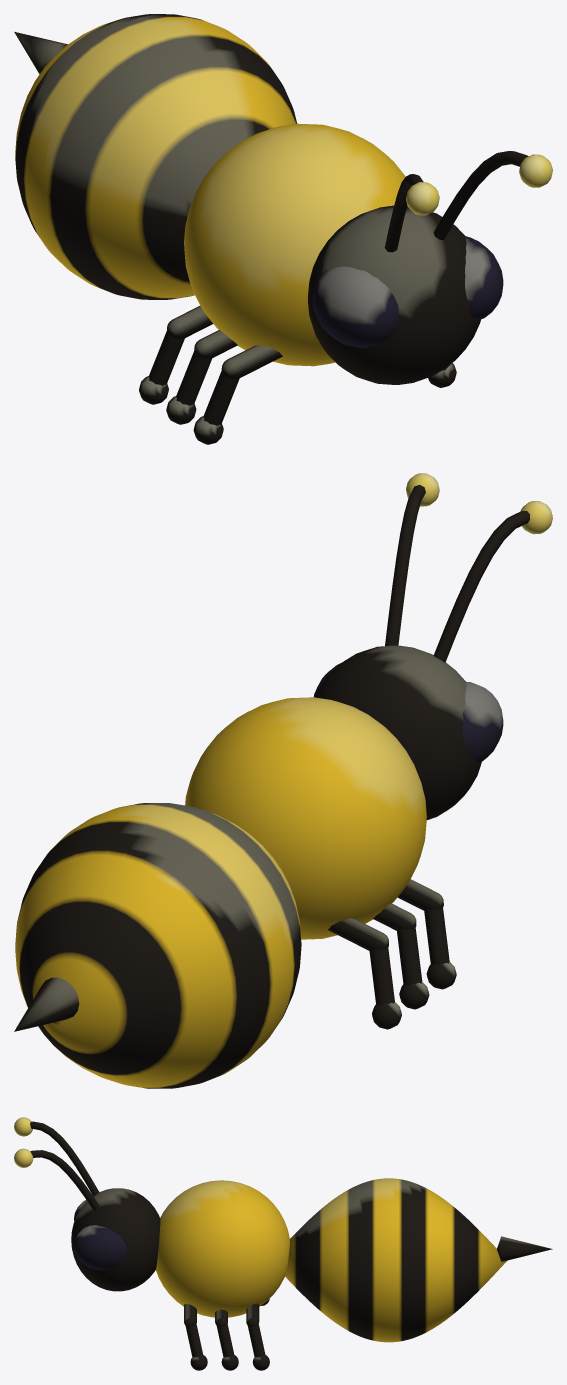
Rendered from bumblebee-starfighter.obj.
3 views of the same model, one above another, from view 1: azimuth 30°, elevation 25°; view 2: azimuth 150°, elevation 25°; view 3: azimuth 270°, elevation 25° (orthographic). The views are drawn at different scales.
Visible parts, largest first — view 1: starfighter; view 2: starfighter; view 3: starfighter.
Part boxes in pixels (box(x1,y1,x2,y2)): starfighter: box(14, 14, 552, 444); starfighter: box(14, 473, 552, 1088); starfighter: box(14, 1117, 552, 1370).
Bounding box in the file's own units: 78.8 × 104 × 249.
